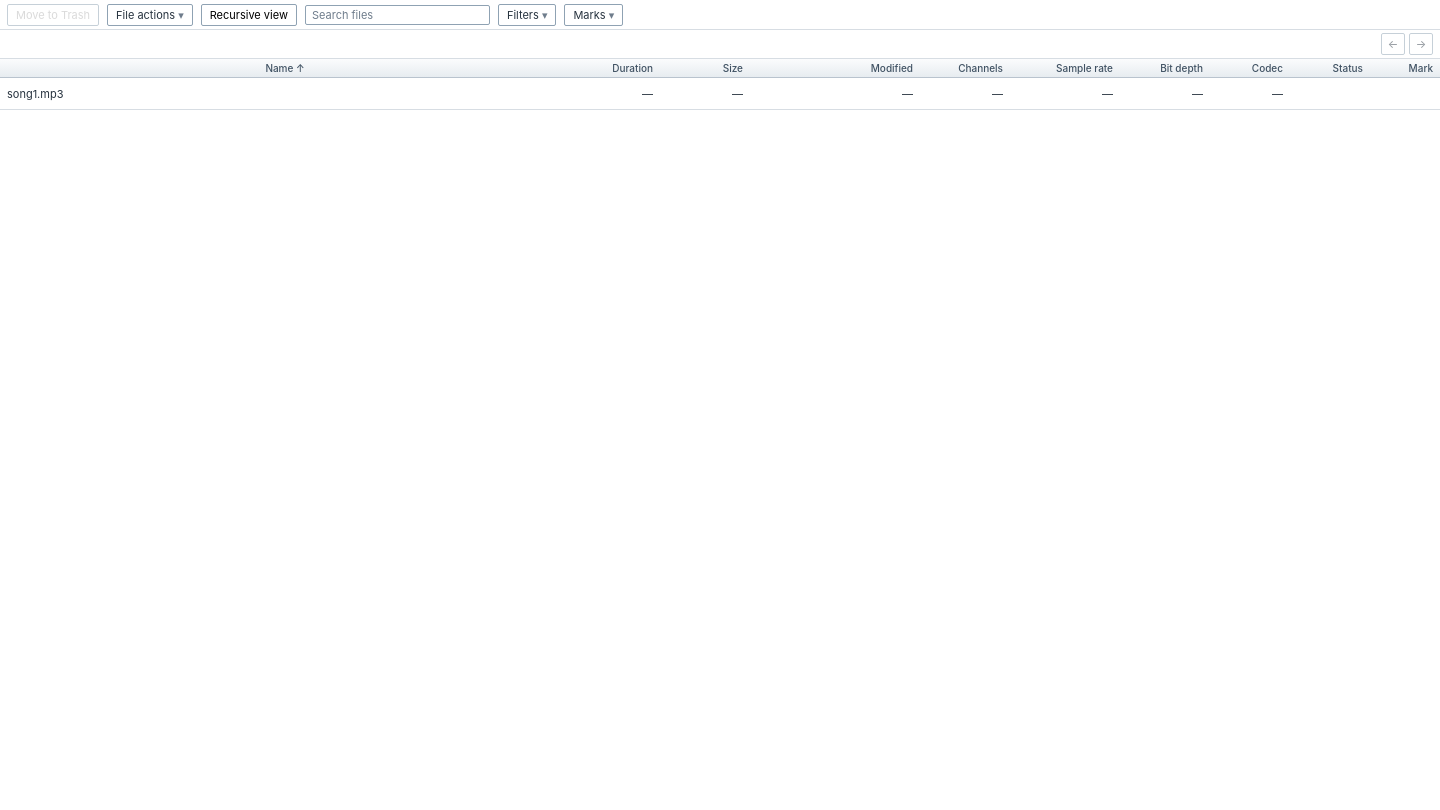
Scenario: FileList — move to Trash › opens confirmation for the selected row
Click the text "song1.mp3": [35, 94] box [7,86,64,100]
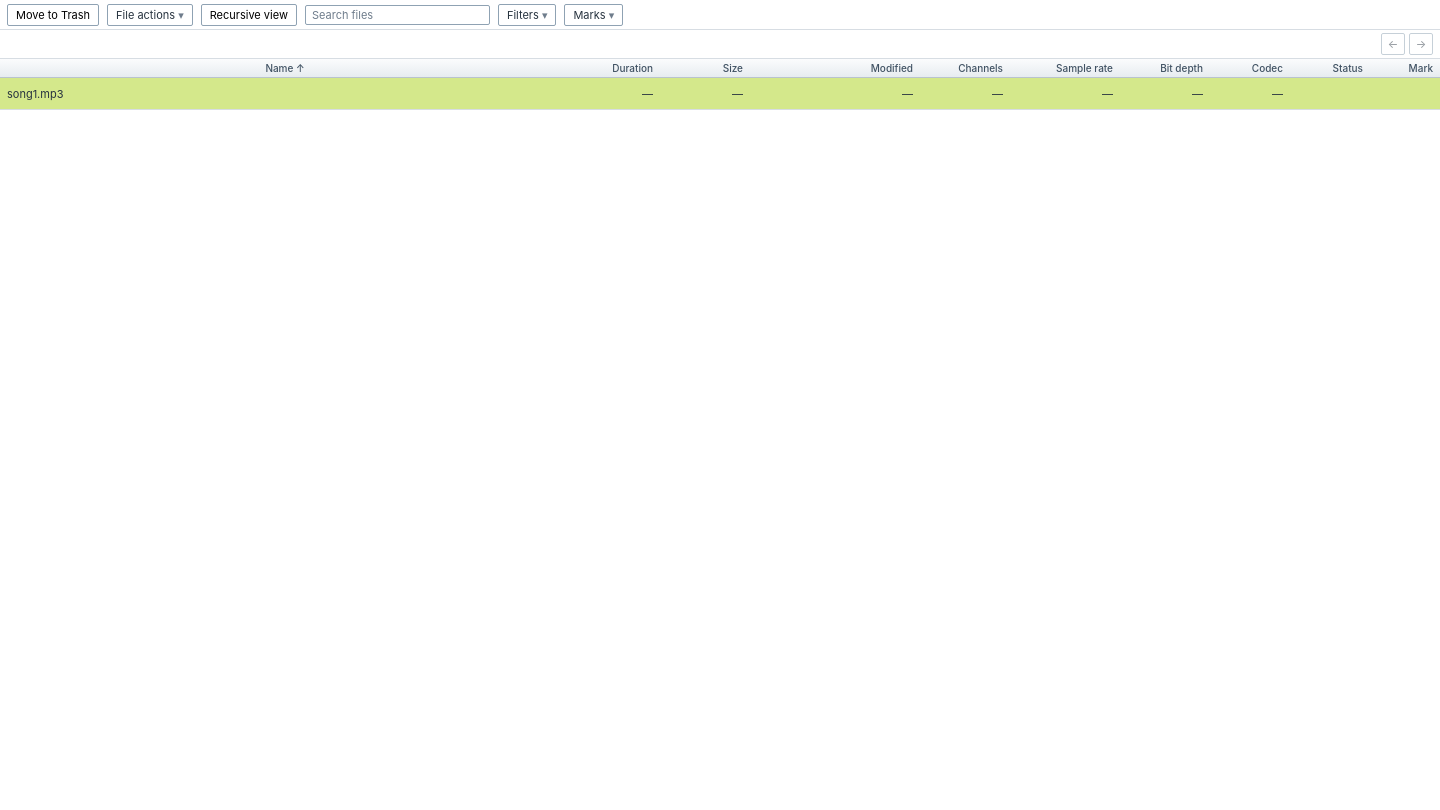
Click the button "Move to Trash": [53, 14] box [7,4,99,26]
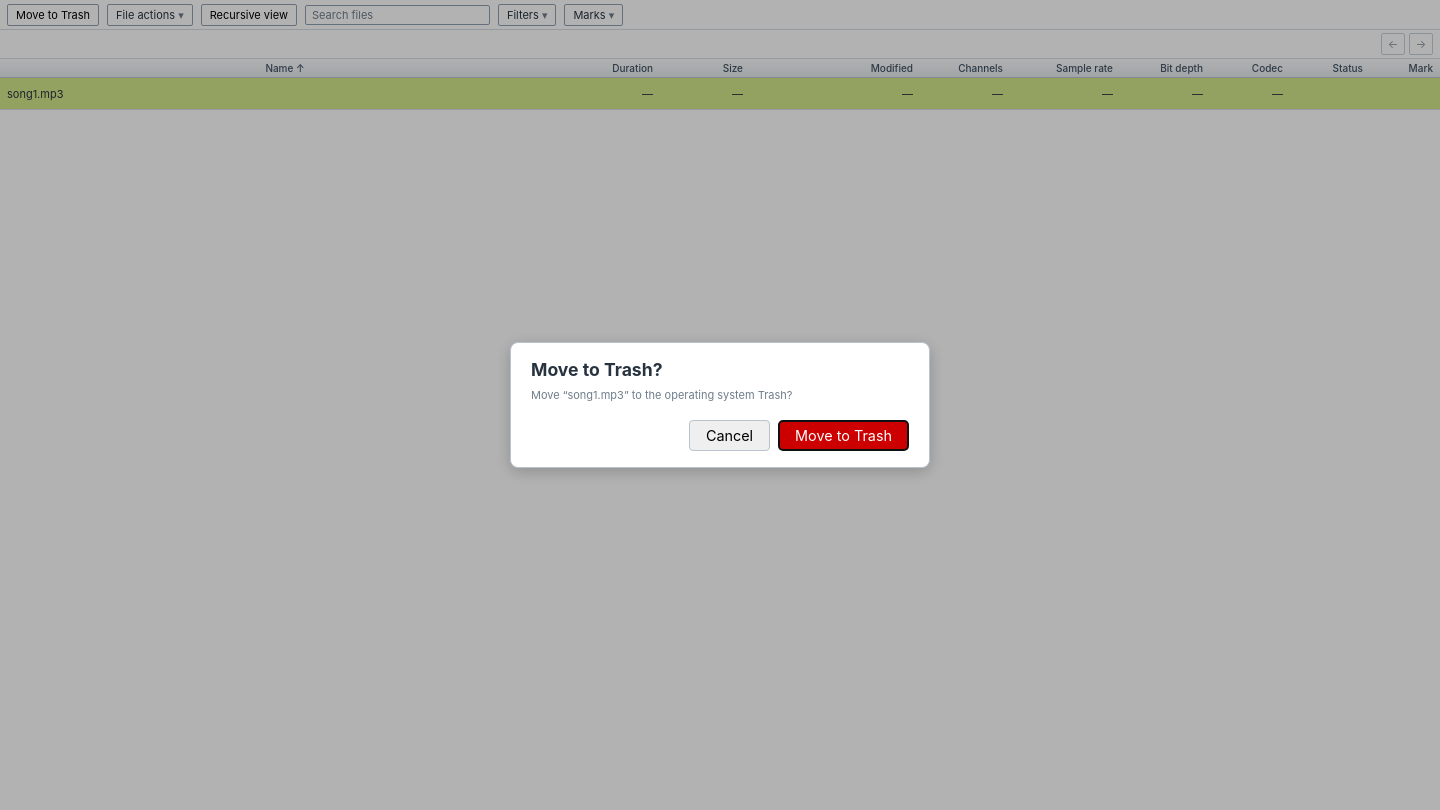
Result: the dialog shows "song1.mp3" at [531,388,792,402]
